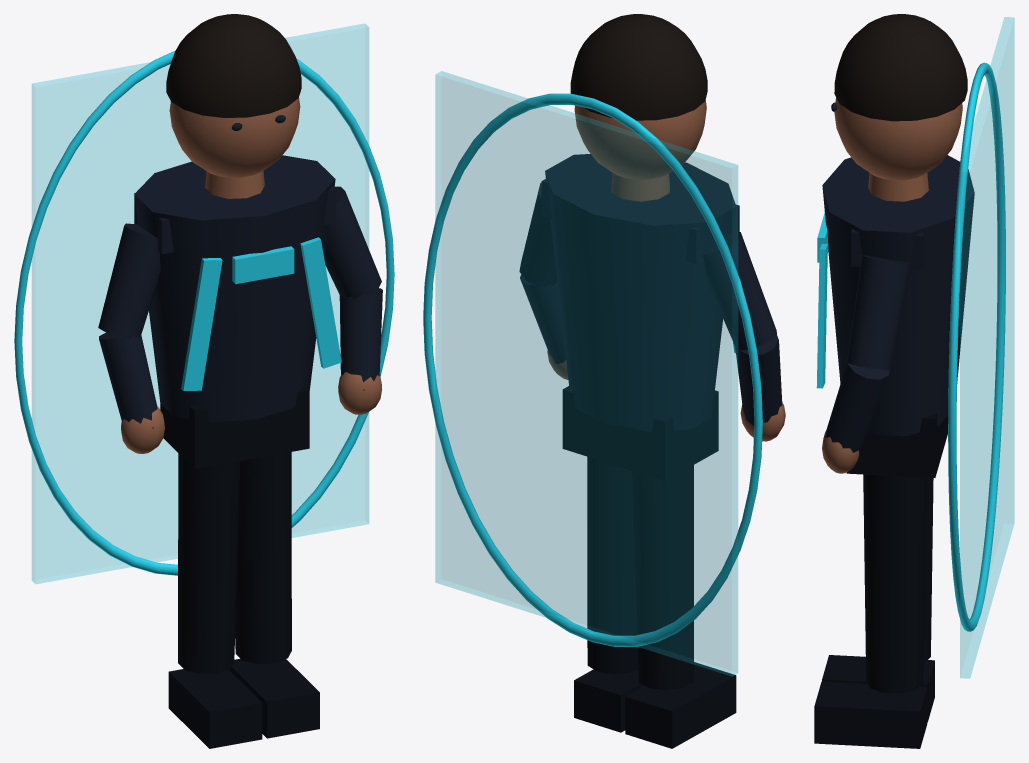
File: digitalhut-guardian-desktop.glb
3 views of the same model, side by side, from view 1: azimuth 30°, elevation 25°; view 2: azimuth 150°, elevation 25°; view 3: azimuth 270°, elevation 25° (orthographic). The views are drawn at different scales.
Parts seen in each view (by area): view 1: Defensive glass shield, Torso, Left leg, Hair, Right leg, Integrity scan ring, Hips, Head, Left boot, Left upper arm, Right boot, Right upper arm (+9 smaller); view 2: Defensive glass shield, Torso, Integrity scan ring, Left leg, Hair, Right leg, Hips, Left boot, Head, Left upper arm, Right boot, Left forearm (+5 smaller); view 3: Defensive glass shield, Torso, Right leg, Hair, Integrity scan ring, Right boot, Head, Right upper arm, Hips, Right forearm, Left boot, Left leg (+4 smaller).
Part boxes in pixels (x1,y1,x2,y2): Defensive glass shield: [32, 24, 368, 583]; Torso: [134, 155, 335, 422]; Left leg: [178, 453, 240, 673]; Hair: [166, 14, 301, 117]; Right leg: [235, 452, 291, 664]; Integrity scan ring: [14, 50, 394, 575]; Hips: [160, 385, 309, 469]; Head: [169, 97, 300, 177]; Left boot: [168, 669, 262, 748]; Left upper arm: [98, 223, 160, 339]; Right boot: [229, 658, 319, 738]; Right upper arm: [325, 186, 381, 299]; Defensive glass shield: [435, 71, 737, 676]; Torso: [545, 154, 736, 431]; Integrity scan ring: [423, 93, 762, 646]; Left leg: [632, 465, 693, 690]; Hair: [570, 14, 707, 120]; Right leg: [587, 457, 638, 674]; Hips: [562, 385, 718, 480]; Left boot: [625, 662, 736, 748]; Head: [574, 100, 706, 179]; Left upper arm: [703, 231, 776, 350]; Right boot: [574, 669, 644, 732]; Left forearm: [735, 335, 782, 425]; Defensive glass shield: [960, 17, 1014, 678]; Torso: [822, 155, 974, 436]; Right leg: [863, 474, 926, 693]; Hair: [834, 14, 967, 121]; Integrity scan ring: [948, 62, 1005, 631]; Right boot: [814, 681, 927, 748]; Head: [834, 97, 962, 180]; Right upper arm: [847, 255, 911, 370]; Hips: [846, 413, 948, 477]; Right forearm: [825, 362, 889, 454]; Left boot: [822, 655, 934, 722]; Left leg: [923, 477, 933, 663].
Bounding box in the file's own units: 2.43 × 4.51 × 1.16.
